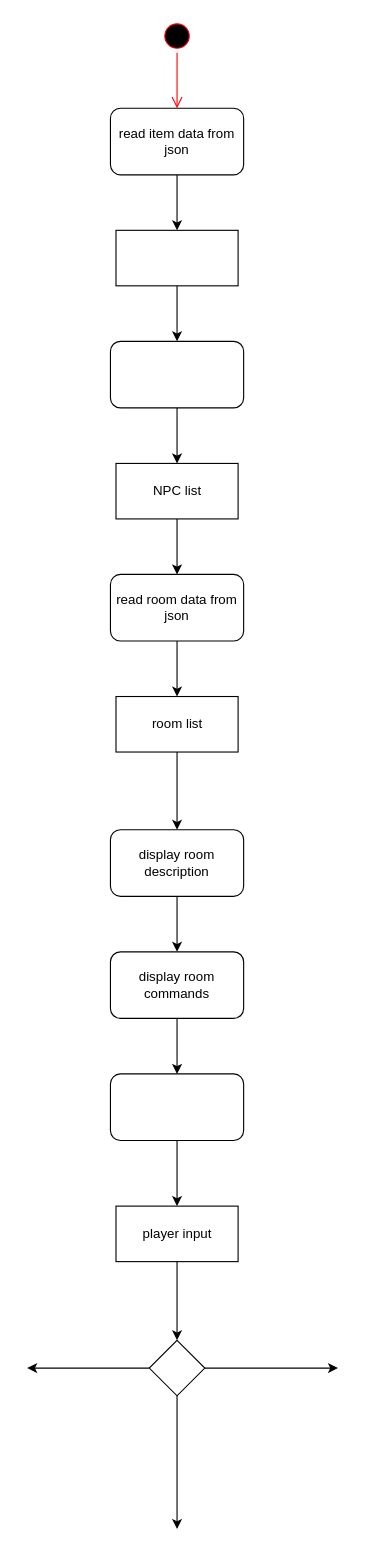
Some shapes in this 366 by 1557 pixel diagram are drawn without their labels. The centre of each missing label's shape, as x and y in pixels:
item list: point (176, 257)
read NPC data from json: point (176, 374)
wait for player input: point (176, 1107)
